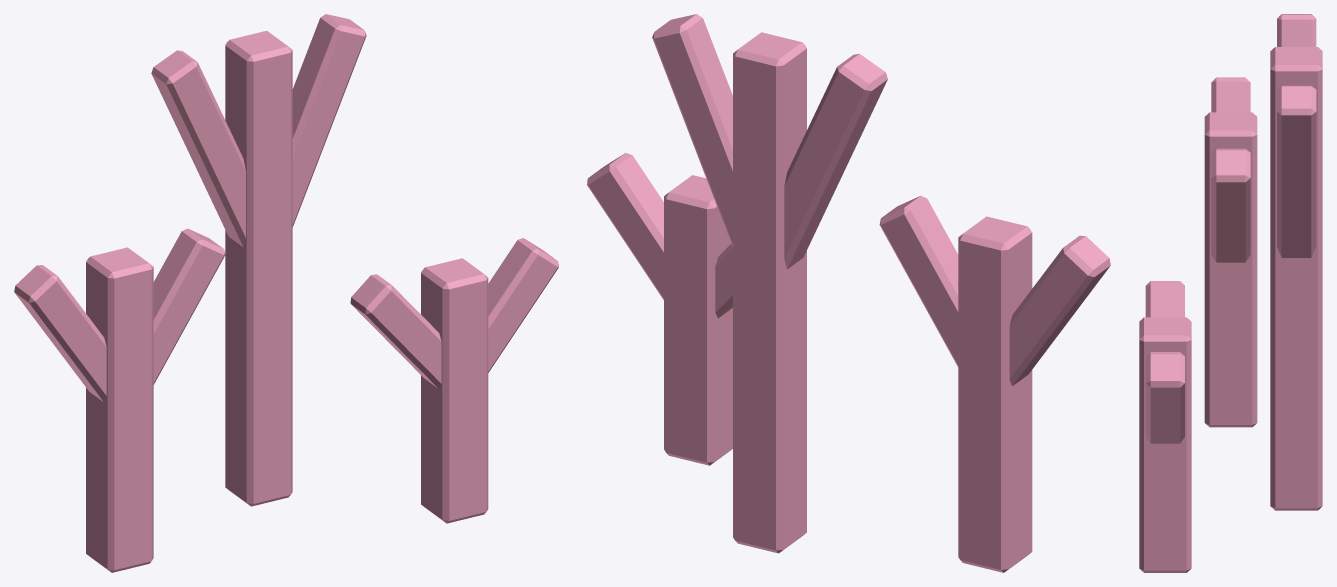
File: pink-coral.glb
The picture shows the model from 3 angles, left to right: view 1: azimuth 30°, elevation 25°; view 2: azimuth 150°, elevation 25°; view 3: azimuth 270°, elevation 25°; orthographic projection. The views are drawn at different scales.
Visible parts, largest first — view 1: coral-stem.001, coral-stem, coral-stem.002, coral-branch.002, coral-branch.003, coral-branch, coral-branch.001, coral-branch.005, coral-branch.004; view 2: coral-stem.001, coral-stem, coral-stem.002, coral-branch.002, coral-branch.003, coral-branch, coral-branch.001, coral-branch.005, coral-branch.004; view 3: coral-stem.001, coral-stem, coral-stem.002, coral-branch.003, coral-branch.001, coral-branch.005, coral-branch.004, coral-branch, coral-branch.002.
Part boxes in pixels (x1=…): coral-stem.001: x1=225, y1=30, x2=292, y2=506; coral-stem: x1=86, y1=247, x2=153, y2=572; coral-stem.002: x1=421, y1=258, x2=488, y2=523; coral-branch.002: x1=151, y1=50, x2=245, y2=247; coral-branch.003: x1=292, y1=14, x2=366, y2=227; coral-branch: x1=14, y1=265, x2=106, y2=402; coral-branch.001: x1=153, y1=228, x2=225, y2=384; coral-branch.005: x1=488, y1=238, x2=558, y2=372; coral-branch.004: x1=350, y1=274, x2=441, y2=388; coral-stem.001: x1=733, y1=32, x2=806, y2=553; coral-stem: x1=958, y1=216, x2=1032, y2=572; coral-stem.002: x1=664, y1=175, x2=732, y2=465; coral-branch.002: x1=784, y1=53, x2=887, y2=269; coral-branch.003: x1=652, y1=14, x2=732, y2=246; coral-branch: x1=1009, y1=235, x2=1110, y2=386; coral-branch.001: x1=879, y1=195, x2=958, y2=366; coral-branch.005: x1=587, y1=153, x2=663, y2=299; coral-branch.004: x1=715, y1=243, x2=732, y2=318; coral-stem.001: x1=1270, y1=47, x2=1322, y2=510; coral-stem: x1=1204, y1=112, x2=1257, y2=427; coral-stem.002: x1=1139, y1=317, x2=1191, y2=572; coral-branch.003: x1=1277, y1=85, x2=1316, y2=257; coral-branch.001: x1=1211, y1=148, x2=1250, y2=262; coral-branch.005: x1=1145, y1=352, x2=1184, y2=443; coral-branch.004: x1=1145, y1=281, x2=1184, y2=317; coral-branch: x1=1211, y1=77, x2=1250, y2=112; coral-branch.002: x1=1277, y1=14, x2=1316, y2=46.
Size of the model in its own units: 1.73 by 1.52 by 0.56.
